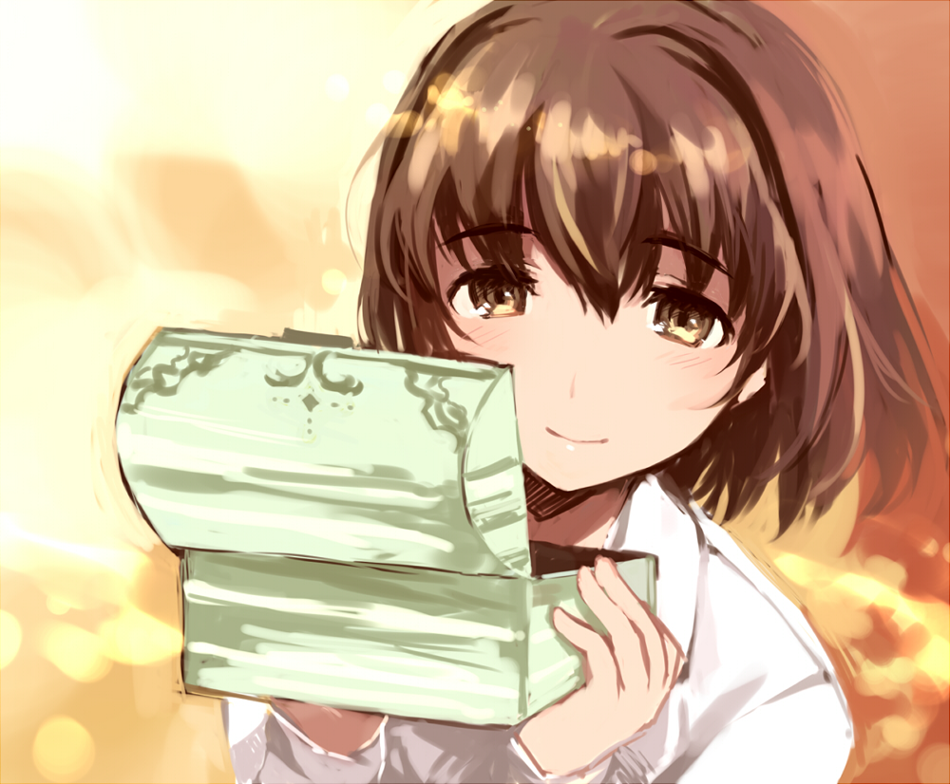纸片人正脸: (364, 17, 886, 501)
